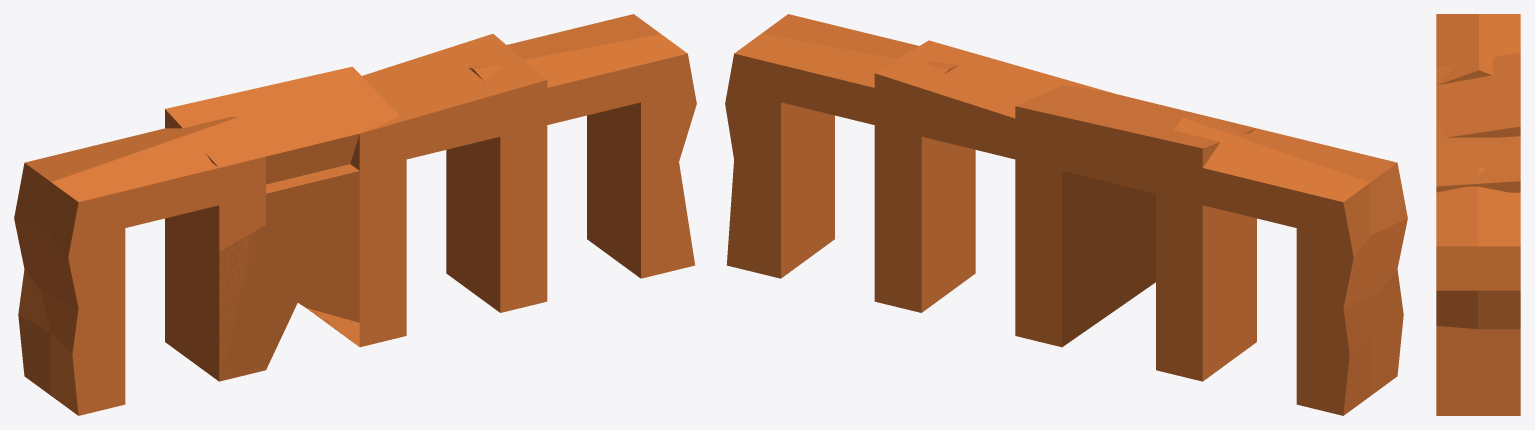
The model's file is quatro_passagens.fbx.
3 renders of one model, left to right at view 1: azimuth 30°, elevation 25°; view 2: azimuth 150°, elevation 25°; view 3: azimuth 270°, elevation 25°, orthographic. The views are drawn at different scales.
Visible parts, largest first — view 1: quatro passagens; view 2: quatro passagens; view 3: quatro passagens.
Part boxes in pixels (left/top/right/bottom): quatro passagens: left=14, top=14, right=696, bottom=415; quatro passagens: left=725, top=14, right=1407, bottom=415; quatro passagens: left=1436, top=14, right=1520, bottom=415.
Bounding box in the file's own units: 13414 × 4753 × 2000.
